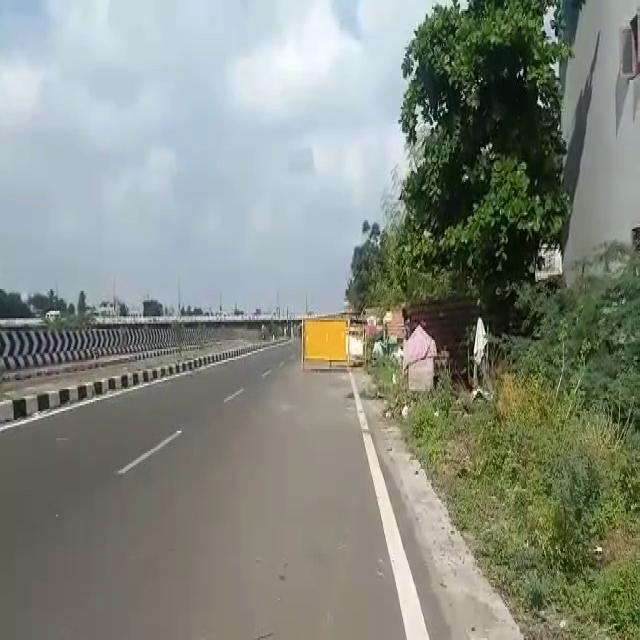fallen_object: (282, 302, 372, 396)
